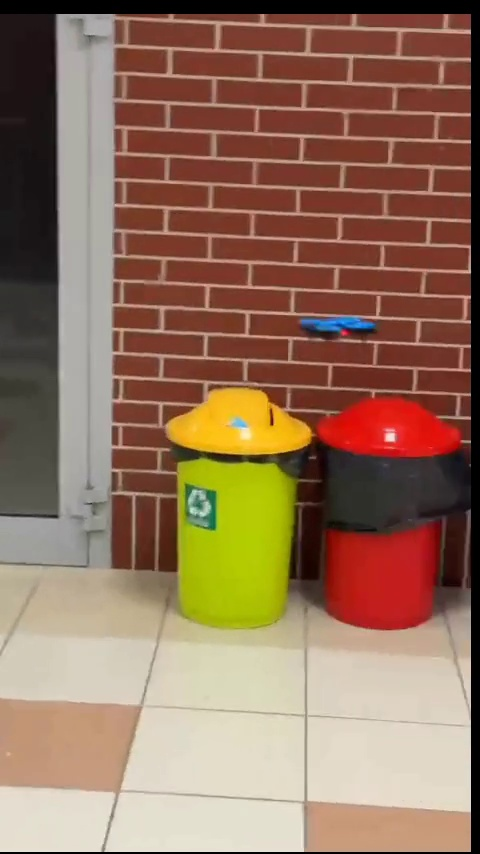drone: (296, 310, 377, 343)
